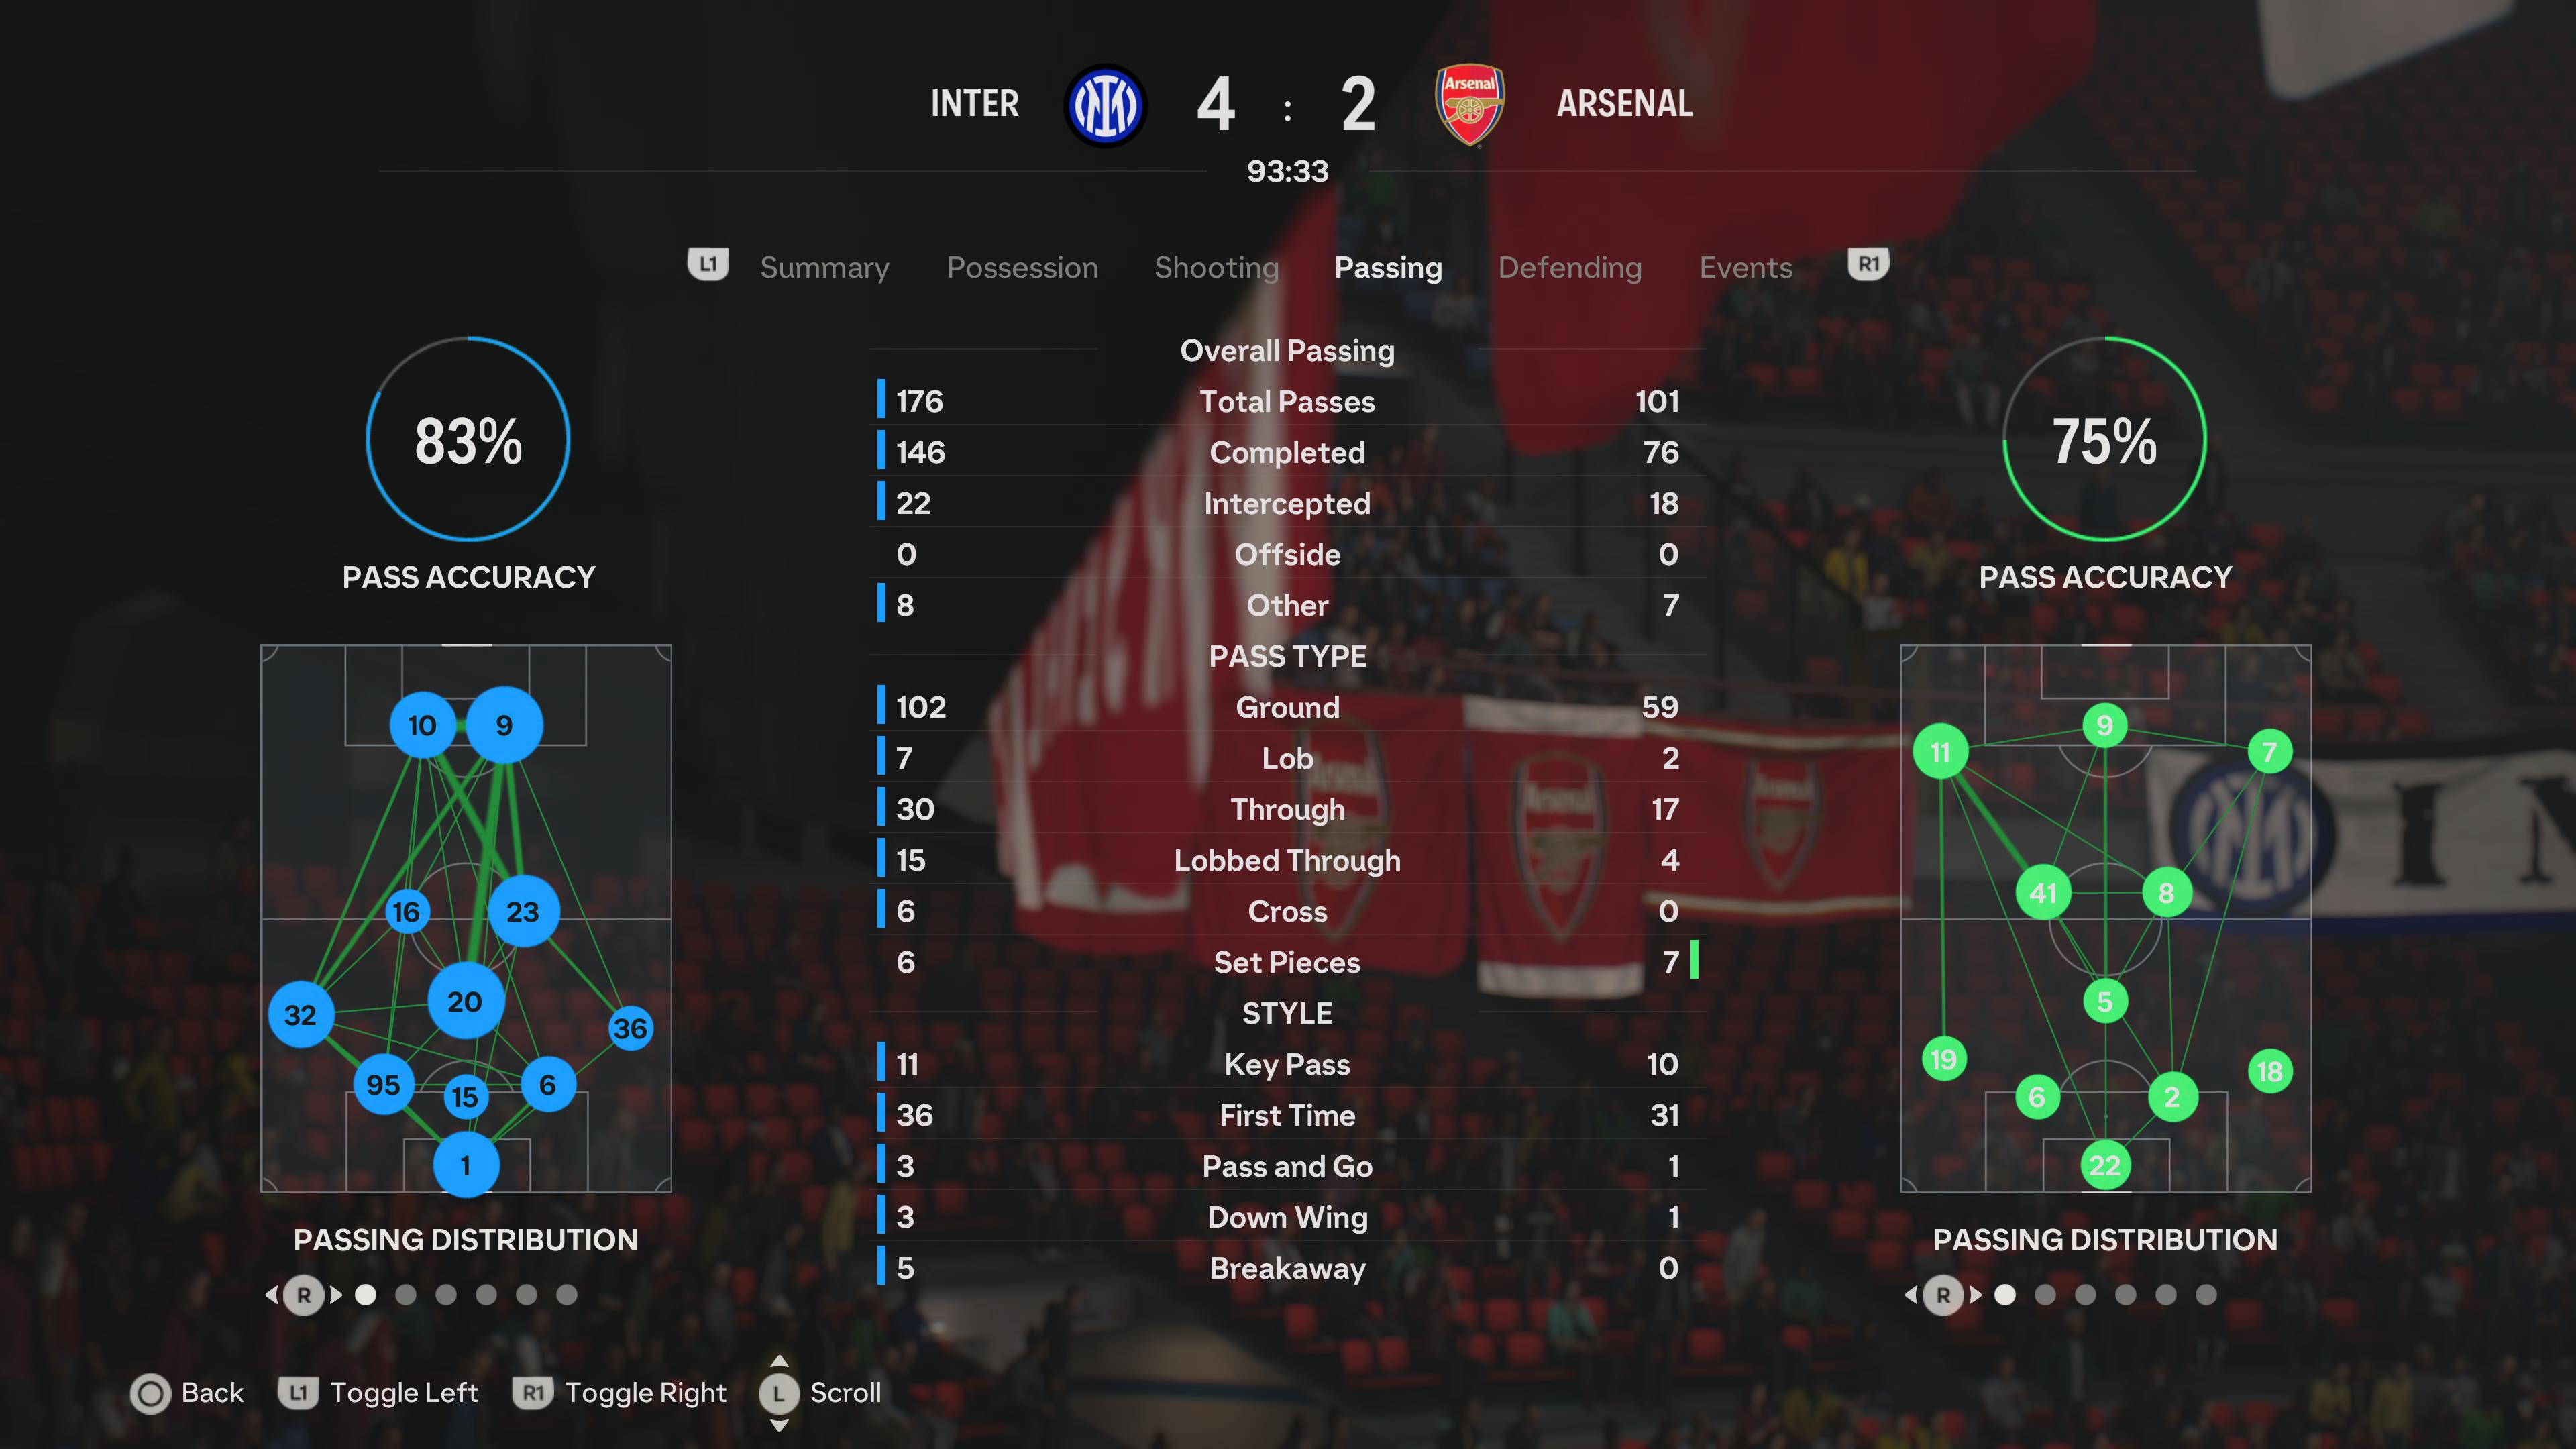BREAKAWAY_AWAY: (1626, 1242, 1684, 1295)
BREAKAWAY_HOME: (888, 1238, 968, 1297)
COMPLETED_AWAY: (1619, 428, 1686, 478)
COMPLETED_HOME: (893, 425, 973, 472)
CROSS_AWAY: (1621, 878, 1686, 931)
CROSS_HOME: (892, 885, 962, 931)
DOWN_WING_AWAY: (1626, 1191, 1686, 1238)
DOWN_WING_HOME: (892, 1191, 970, 1240)
FIRST_TIME_AWAY: (1624, 1085, 1686, 1138)
FIRST_TIME_HOME: (892, 1088, 966, 1138)
GROUND_AWAY: (1626, 679, 1686, 731)
GROUND_HOME: (892, 676, 970, 725)
INTERCEPTED_AWAY: (1617, 479, 1684, 522)
INTERCEPTED_HOME: (892, 472, 975, 525)
KEY_PASS_AWAY: (1624, 1042, 1684, 1085)
KEY_PASS_HOME: (888, 1026, 964, 1085)
LOBBED_THROUGH_AWAY: (1621, 833, 1684, 879)
LOBBED_THROUGH_HOME: (892, 833, 970, 879)
LOB_AWAY: (1624, 732, 1684, 775)
LOB_HOME: (892, 732, 970, 777)
OFFSIDE_AWAY: (1617, 522, 1684, 575)
OFFSIDE_HOME: (893, 525, 973, 575)
OTHER_AWAY: (1615, 579, 1684, 633)
OTHER_HOME: (888, 575, 966, 628)
PAGE_ID: (327, 550, 603, 605)
PASS_AND_GO_AWAY: (1626, 1138, 1686, 1189)
PASS_AND_GO_HOME: (890, 1134, 970, 1189)
SET_PIECES_AWAY: (1619, 936, 1686, 994)
SET_PIECES_HOME: (886, 934, 962, 998)
THROUGH_AWAY: (1624, 777, 1684, 830)
THROUGH_HOME: (892, 782, 970, 830)
TOTAL_PASSES_AWAY: (1621, 373, 1684, 423)
TOTAL_PASSES_HOME: (890, 370, 975, 423)
